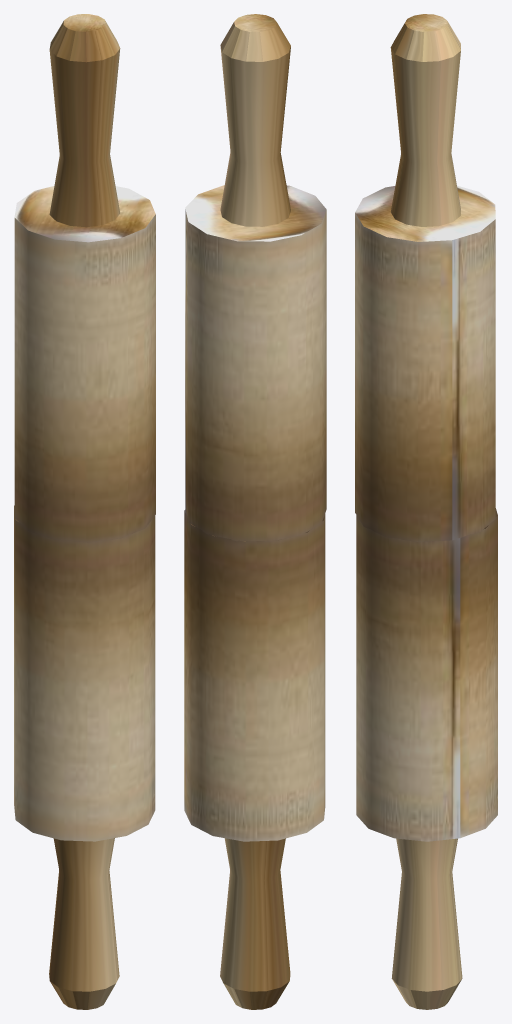
Rendered from rollingpin.fbx.
3 renders of one model, left to right at view 1: azimuth 30°, elevation 25°; view 2: azimuth 150°, elevation 25°; view 3: azimuth 270°, elevation 25°, orthographic.
Parts seen in each view (by area): view 1: pasted__pCylinder4, pCylinder4; view 2: pasted__pCylinder4, pCylinder4; view 3: pasted__pCylinder4, pCylinder4.
Boxes of the visible parts, x1=… form: pasted__pCylinder4: x1=14, y1=14, x2=155, y2=542; pCylinder4: x1=14, y1=505, x2=155, y2=1009; pasted__pCylinder4: x1=185, y1=14, x2=326, y2=541; pCylinder4: x1=184, y1=509, x2=325, y2=1009; pasted__pCylinder4: x1=355, y1=14, x2=495, y2=542; pCylinder4: x1=356, y1=508, x2=497, y2=1009.
Size of the model in its own units: 6.49 by 49.48 by 6.55.
Materials: 2 (2 with a texture image).
